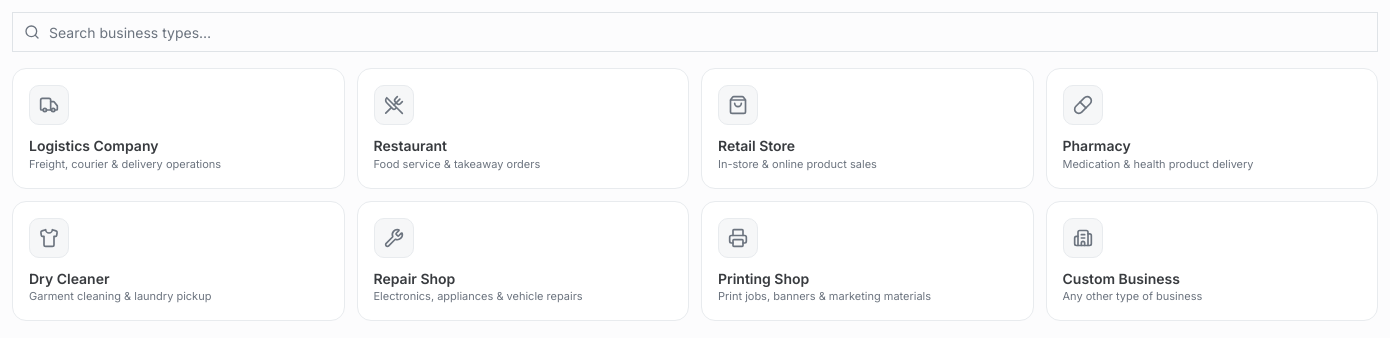
Test: BusinessTypeSelector › shows no cards when search finds no matches
In the field labelled "Search business types": (695, 32) [12, 12, 1378, 52], type "xyznosuchtype"
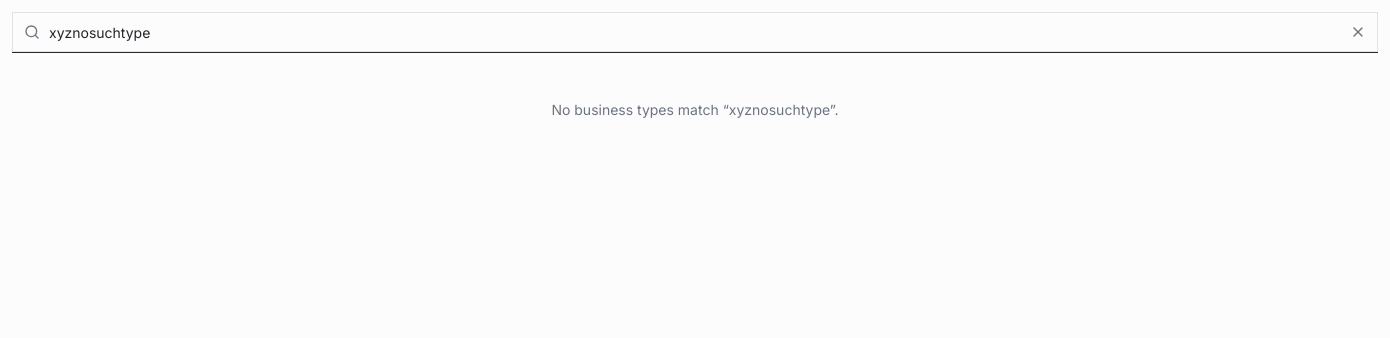
expect the option "Logistics Company" is gone: met
expect the option "Restaurant" is gone: met
expect the option "Retail Store" is gone: met
